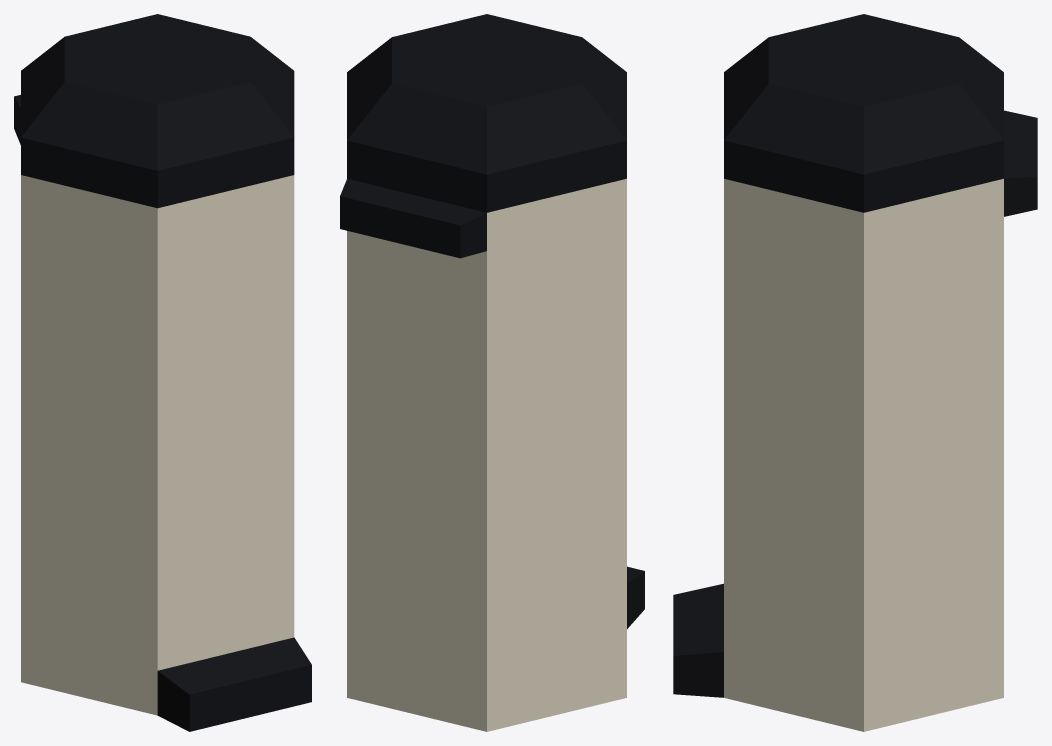
The model's file is trashcan.glb.
The picture shows the model from 3 angles, left to right: view 1: azimuth 30°, elevation 25°; view 2: azimuth 150°, elevation 25°; view 3: azimuth 270°, elevation 25°; orthographic projection. The views are drawn at different scales.
Visible parts, largest first — view 1: trashcan; view 2: trashcan; view 3: trashcan.
Boxes of the visible parts, x1,y1,x2,y2 form: trashcan: (14, 14, 311, 731); trashcan: (340, 14, 644, 731); trashcan: (673, 14, 1037, 731).
Bounding box in the file's own units: 0.301 × 0.62 × 0.3393.
